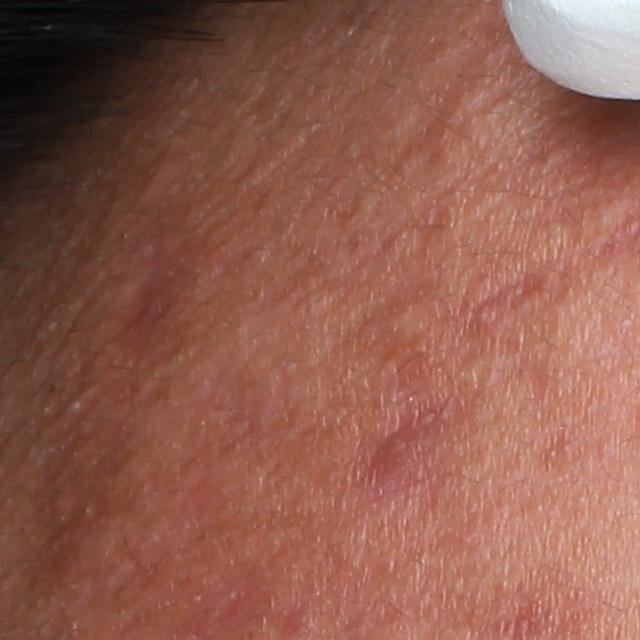papule: (371, 424, 422, 479)
